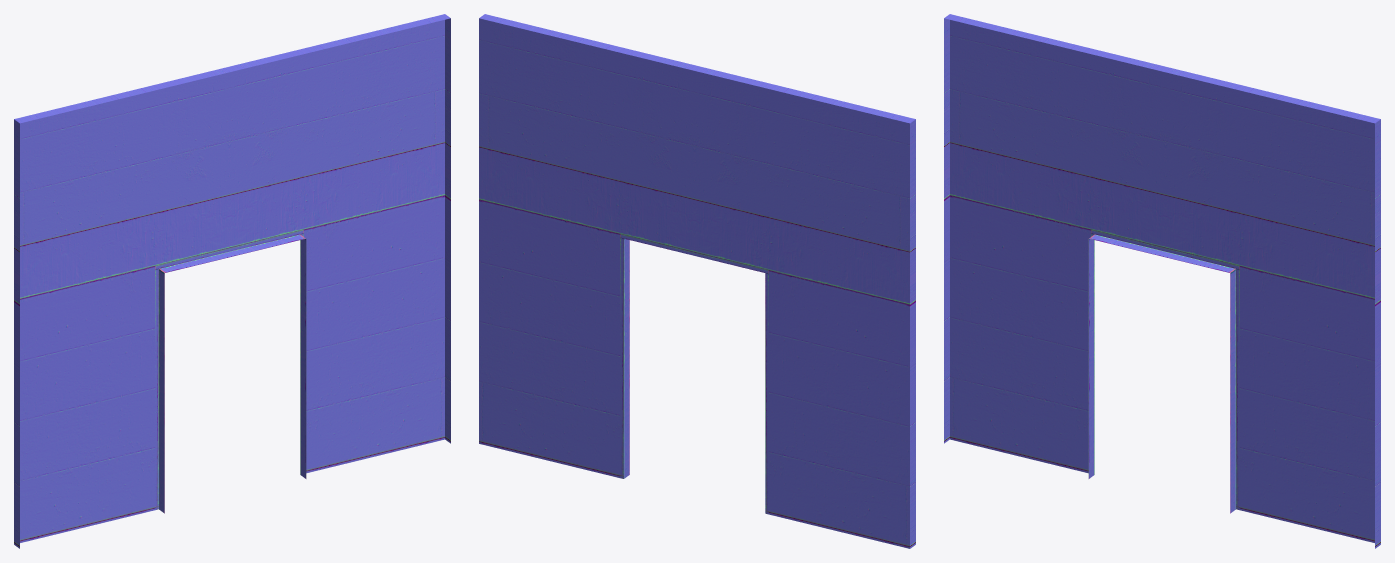
File: HCZ_Doors_Smalll.fbx
3 renders of one model, left to right at view 1: azimuth 30°, elevation 25°; view 2: azimuth 150°, elevation 25°; view 3: azimuth 330°, elevation 25°, orthographic.
Parts seen in each view (by area): view 1: HCZ_Door_Small; view 2: HCZ_Door_Small; view 3: HCZ_Door_Small.
Part boxes in pixels (<box>): HCZ_Door_Small: <box>14,14,450,548</box>; HCZ_Door_Small: <box>479,14,915,548</box>; HCZ_Door_Small: <box>944,14,1380,548</box>.
Bounding box in the file's own units: 443 × 418 × 10.61.
